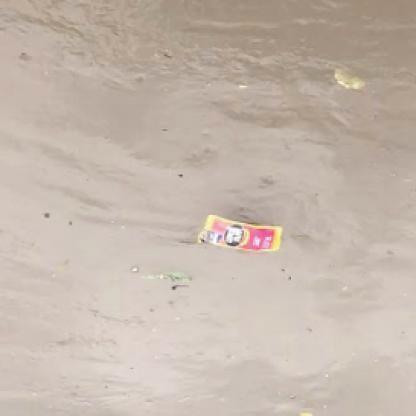Trash: (195, 210, 288, 255)
